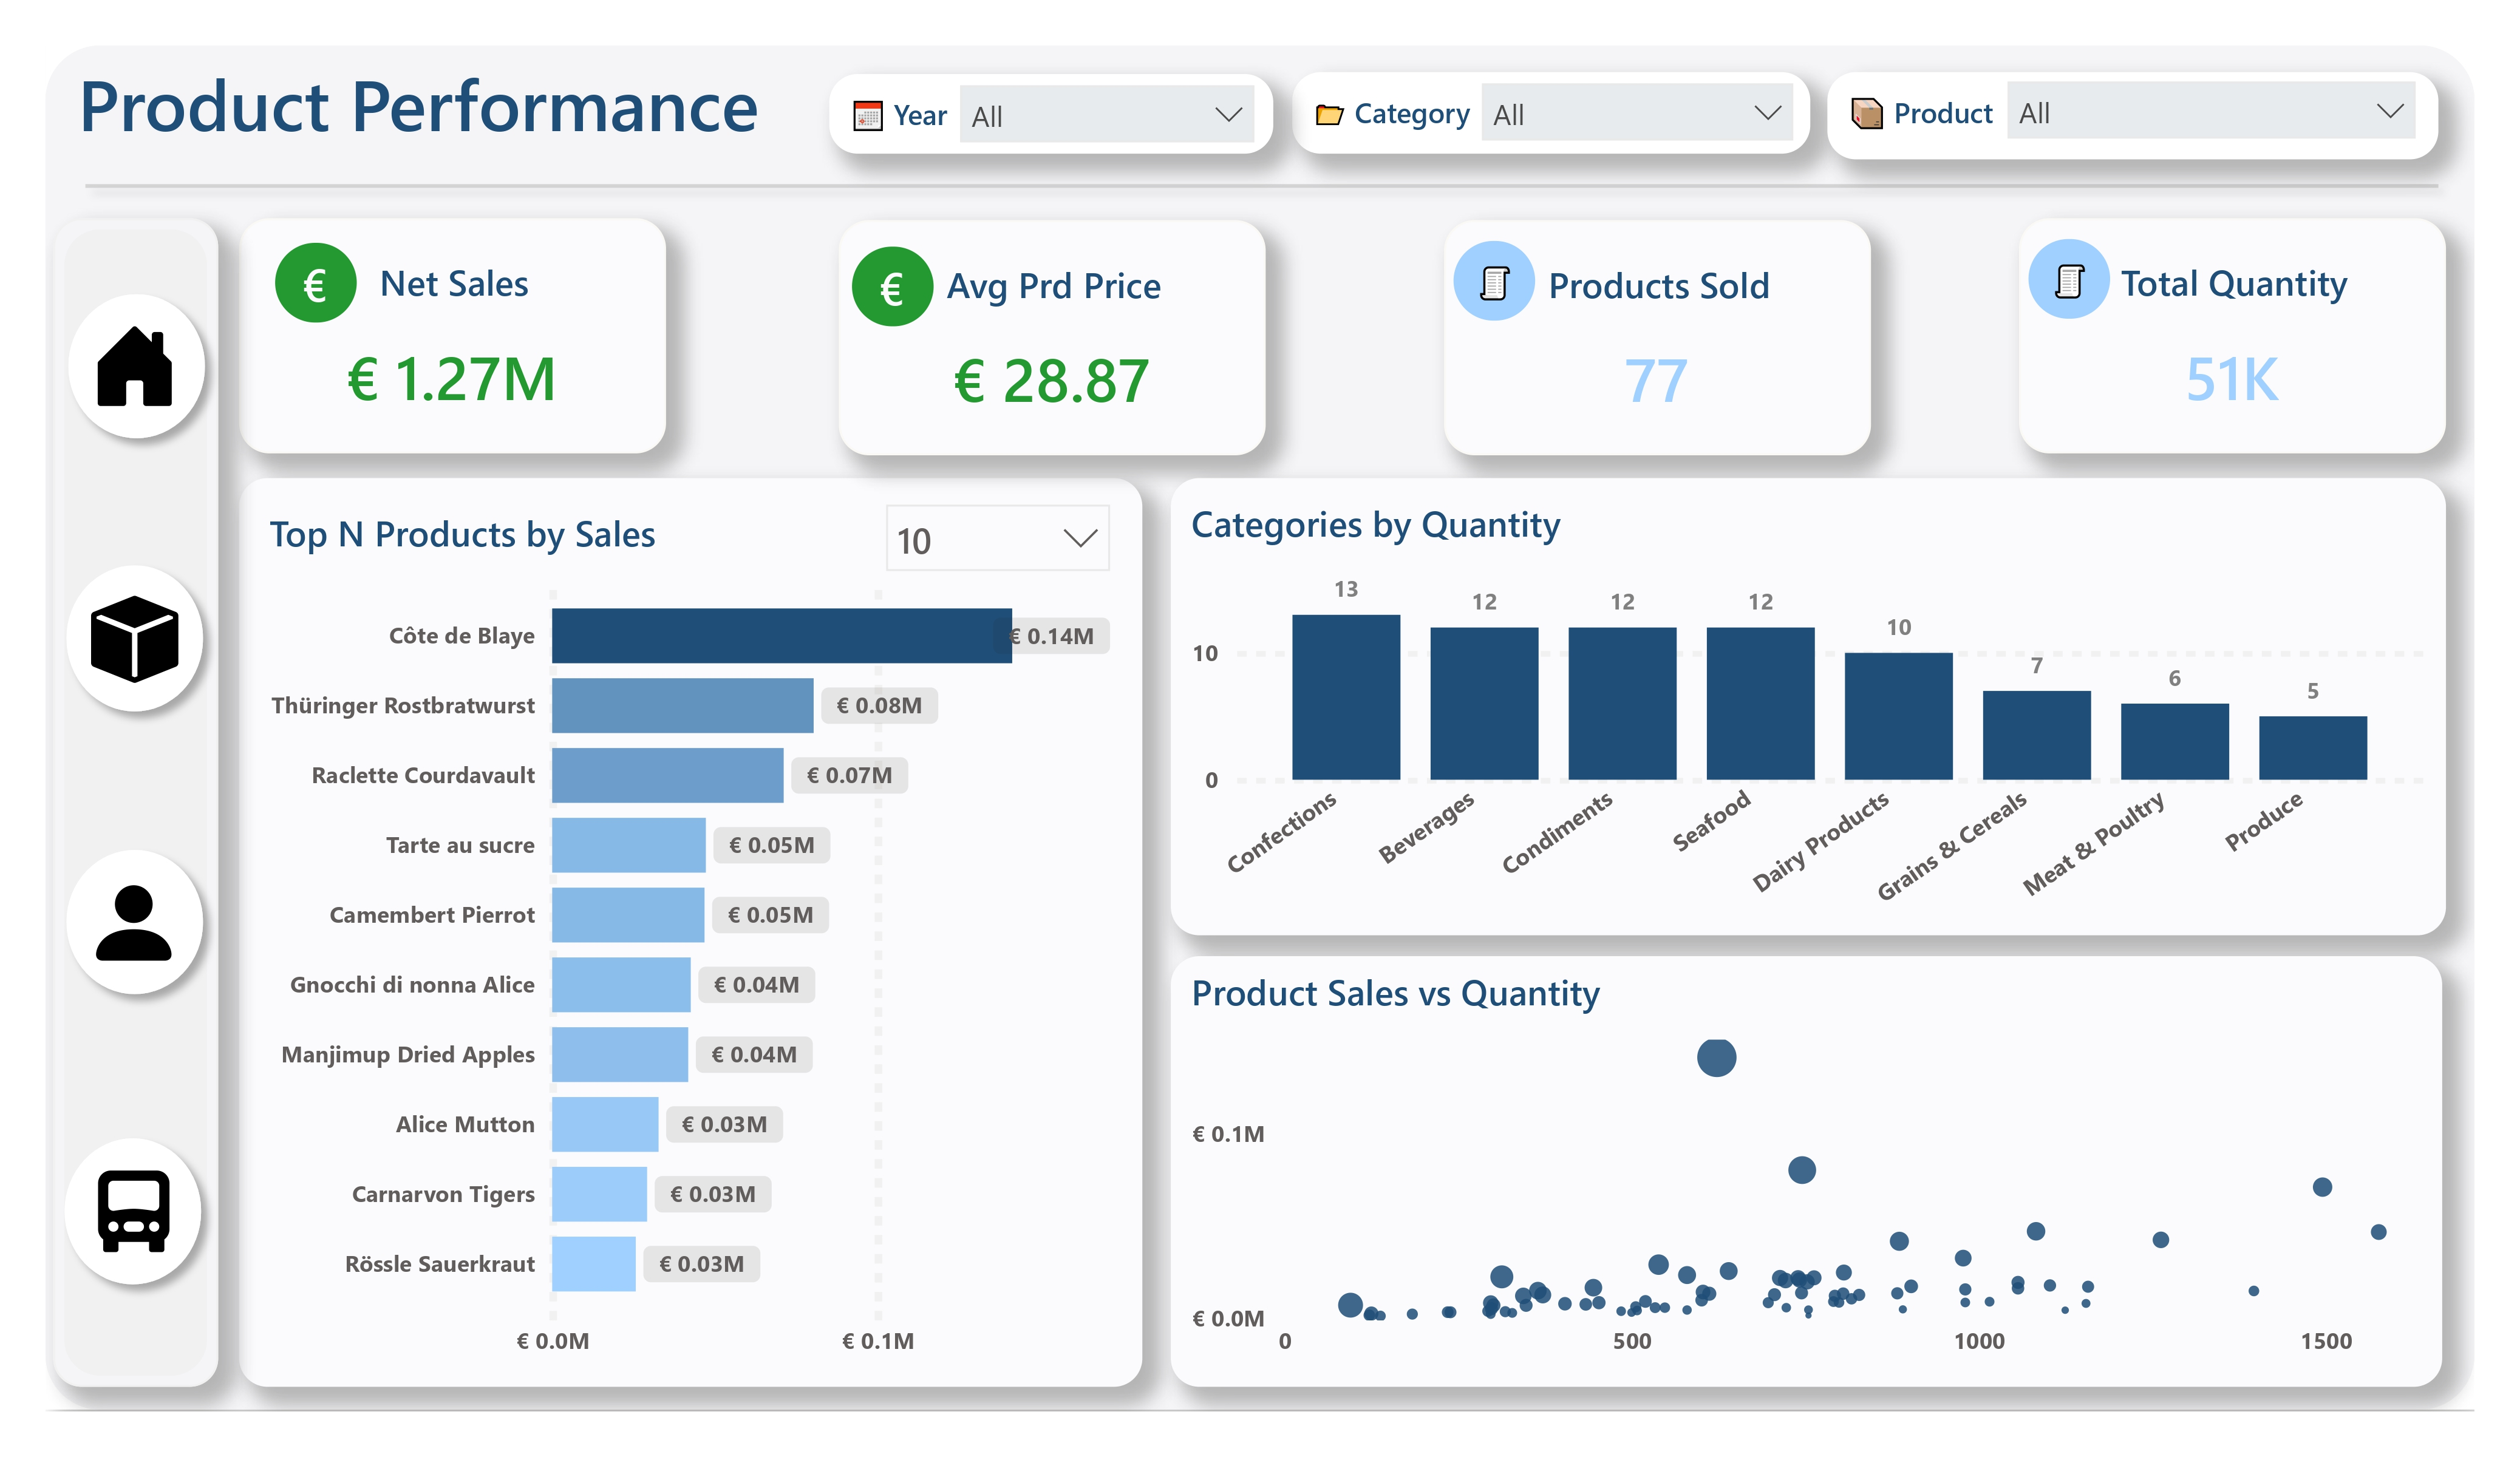

What the dashboard file says about the page in this screenshot:
{"tool":"powerbi","page":{"name":"Product Performance","canvas":[1280,720],"ordinal":1},"visuals":[{"type":"shape","box":[0,0,1280,719.5],"z":0},{"type":"textbox","box":[412.7,14.8,234,41.9],"z":0,"group":"g2"},{"type":"shape","box":[1045.6,101.3,43.3,41.7],"z":0,"group":"g12"},{"type":"shape","box":[742.9,103,43.3,41.7],"z":0,"group":"g13"},{"type":"shape","box":[121.1,104.4,43.3,41.7],"z":0,"group":"g7"},{"type":"shape","box":[425.1,106.4,43.3,41.7],"z":0,"group":"g8"},{"type":"shape","box":[3,122,90,94],"z":0,"group":"g14"},{"type":"group","id":"g1","title":"Group 2","box":[657.3,10.2,273.9,46.6],"z":1000},{"type":"textbox","box":[657.3,13.8,273.1,43.1],"z":1000,"group":"g1"},{"type":"textbox","box":[129.9,104.1,40,42.1],"z":1000,"group":"g7"},{"type":"textbox","box":[433.9,106.1,40,42.1],"z":1000,"group":"g8"},{"type":"textbox","box":[1052.7,107,36.2,43.8],"z":1000,"group":"g12"},{"type":"textbox","box":[750,108.7,36.2,43.8],"z":1000,"group":"g13"},{"type":"image","box":[22.7,140,48.2,57.3],"z":1000,"group":"g14"},{"type":"group","id":"g2","title":"Group 3","box":[412.7,10.7,234,46],"z":2000},{"type":"textbox","box":[938.8,13.6,321.5,46],"z":2000,"group":"g9"},{"type":"textbox","box":[11.8,0,419.9,82.3],"z":3000},{"type":"slicer","title":"📅 Year","fields":{"Values":["Date.Year"]},"box":[471.7,10.7,175,42.8],"z":3000,"group":"g2"},{"type":"slicer","title":"📅 Year","fields":{"Values":["products.Category"]},"box":[746.9,10.2,184.3,41.8],"z":4000,"group":"g1"},{"type":"shape","box":[11.8,59.4,1258.2,30],"z":4000},{"type":"slicer","title":"📅 Year","fields":{"Values":["products.productName"]},"box":[1024.1,8.9,235.2,45.4],"z":5000,"group":"g9"},{"type":"group","id":"g3","title":"Group 10","box":[1040.1,90.7,224.6,123.8],"z":5000},{"type":"group","id":"g4","title":"Group 6","box":[102.5,90.7,223.4,124.3],"z":6000},{"type":"cardVisual","title":"Total Quantity","fields":{"Data":["Measure.Total Quantity"]},"box":[1040.1,90.7,224.6,123.8],"z":7000,"group":"g3"},{"type":"cardVisual","title":"Products Sold","fields":{"Data":["Measure.Products Sold"]},"box":[737.4,92.4,224.6,123.8],"z":7000,"group":"g5"},{"type":"clusteredBarChart","title":"Top N Products by Sales","fields":{"Category":["products.productName"],"Y":["Measure.Net Sales"]},"box":[102.5,228.5,475.4,478.7],"z":7000},{"type":"cardVisual","title":"Net Sales","fields":{"Data":["Measure.Net Sales"]},"box":[102.5,90.7,224.6,123.8],"z":8000,"group":"g4"},{"type":"cardVisual","title":"Avg Prd Price","fields":{"Data":["Measure.Avg Unit Price"]},"box":[418.3,92.4,224.6,123.8],"z":8000,"group":"g6"},{"type":"group","id":"g5","title":"Group 7","box":[737.4,92.4,224.6,123.8],"z":8000},{"type":"group","id":"g6","title":"Group 4","box":[418.3,92.4,224.6,123.8],"z":9000},{"type":"group","id":"g7","title":"Group 5","box":[121.1,104.1,48.5,42.3],"z":9000,"group":"g4"},{"type":"group","id":"g8","title":"Group 5","box":[425.1,106.1,47.9,42.7],"z":9000,"group":"g6"},{"type":"clusteredColumnChart","title":"Categories by Quantity","fields":{"Category":["products.Category"],"Y":["CountNonNull(products.quantityPerUnit)"]},"box":[593,228.5,671.9,240.2],"z":10000},{"type":"scatterChart","title":"Product Sales vs Quantity","fields":{"Category":["products.productName"],"Size":["Measure.Avg Unit Price"],"X":["Measure.Total Quantity"],"Y":["Measure.Net Sales"]},"box":[593,480.4,670.2,226.8],"z":11000},{"type":"group","id":"g9","title":"Group 1","box":[938.8,8.9,321.5,50.7],"z":12000},{"type":"group","id":"g10","title":"Group 8","box":[1045.6,101.3,43.3,49.2],"z":12000,"group":"g3"},{"type":"group","id":"g11","title":"Group 8","box":[742.9,103,43.3,49.2],"z":12000,"group":"g5"},{"type":"group","id":"g12","title":"Group 9","box":[1045.6,101.3,43.3,49.2],"z":12001,"group":"g10"},{"type":"group","id":"g13","title":"Group 9","box":[742.9,103,43.3,49.2],"z":12001,"group":"g11"},{"type":"shape","box":[4.3,90.7,86.4,616.3],"z":13000},{"type":"shape","box":[1.8,265.5,90,94.5],"z":14000},{"type":"image","box":[23.6,276.4,46.4,72.7],"z":15000},{"type":"shape","box":[1.8,414.5,90,94.5],"z":16000},{"type":"image","box":[20,433.6,52.7,56.4],"z":17000},{"type":"shape","box":[0.9,567.3,90,94.5],"z":18000},{"type":"image","box":[25.5,580.9,42.7,67.3],"z":19000},{"type":"group","id":"g14","title":"Group 11","box":[3,122,90,94],"z":20000},{"type":"slicer","fields":{"Values":["TopN.TopN"]},"box":[433.4,231.8,137.7,45.4],"z":21000}]}

Visuals, with their boxes on the page's 1280x720 design canvas (x1, y1, x2, y2). These are canvas units, not pixel positions in the 2520x1457 screenshot, which may show the page scaled, cropped or inside an application window:
shape: box(0, 0, 1280, 720)
textbox: box(413, 15, 647, 57)
shape: box(1046, 101, 1089, 143)
shape: box(743, 103, 786, 145)
shape: box(121, 104, 164, 146)
shape: box(425, 106, 468, 148)
shape: box(3, 122, 93, 216)
"Group 2" group: box(657, 10, 931, 57)
textbox: box(657, 14, 930, 57)
textbox: box(130, 104, 170, 146)
textbox: box(434, 106, 474, 148)
textbox: box(1053, 107, 1089, 151)
textbox: box(750, 109, 786, 152)
image: box(23, 140, 71, 197)
"Group 3" group: box(413, 11, 647, 57)
textbox: box(939, 14, 1260, 60)
textbox: box(12, 0, 432, 82)
"📅 Year" slicer: box(472, 11, 647, 54)
"📅 Year" slicer: box(747, 10, 931, 52)
shape: box(12, 59, 1270, 89)
"📅 Year" slicer: box(1024, 9, 1259, 54)
"Group 10" group: box(1040, 91, 1265, 214)
"Group 6" group: box(102, 91, 326, 215)
"Total Quantity" cardVisual: box(1040, 91, 1265, 214)
"Products Sold" cardVisual: box(737, 92, 962, 216)
"Top N Products by Sales" clusteredBarChart: box(102, 228, 578, 707)
"Net Sales" cardVisual: box(102, 91, 327, 214)
"Avg Prd Price" cardVisual: box(418, 92, 643, 216)
"Group 7" group: box(737, 92, 962, 216)
"Group 4" group: box(418, 92, 643, 216)
"Group 5" group: box(121, 104, 170, 146)
"Group 5" group: box(425, 106, 473, 149)
"Categories by Quantity" clusteredColumnChart: box(593, 228, 1265, 469)
"Product Sales vs Quantity" scatterChart: box(593, 480, 1263, 707)
"Group 1" group: box(939, 9, 1260, 60)
"Group 8" group: box(1046, 101, 1089, 150)
"Group 8" group: box(743, 103, 786, 152)
"Group 9" group: box(1046, 101, 1089, 150)
"Group 9" group: box(743, 103, 786, 152)
shape: box(4, 91, 91, 707)
shape: box(2, 266, 92, 360)
image: box(24, 276, 70, 349)
shape: box(2, 414, 92, 509)
image: box(20, 434, 73, 490)
shape: box(1, 567, 91, 662)
image: box(26, 581, 68, 648)
"Group 11" group: box(3, 122, 93, 216)
slicer - TopN.TopN: box(433, 232, 571, 277)
